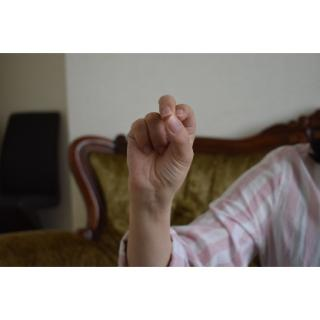QAAF: (118, 90, 201, 206)
